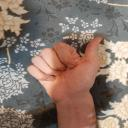ThumbsUp: (27, 35, 107, 104)
